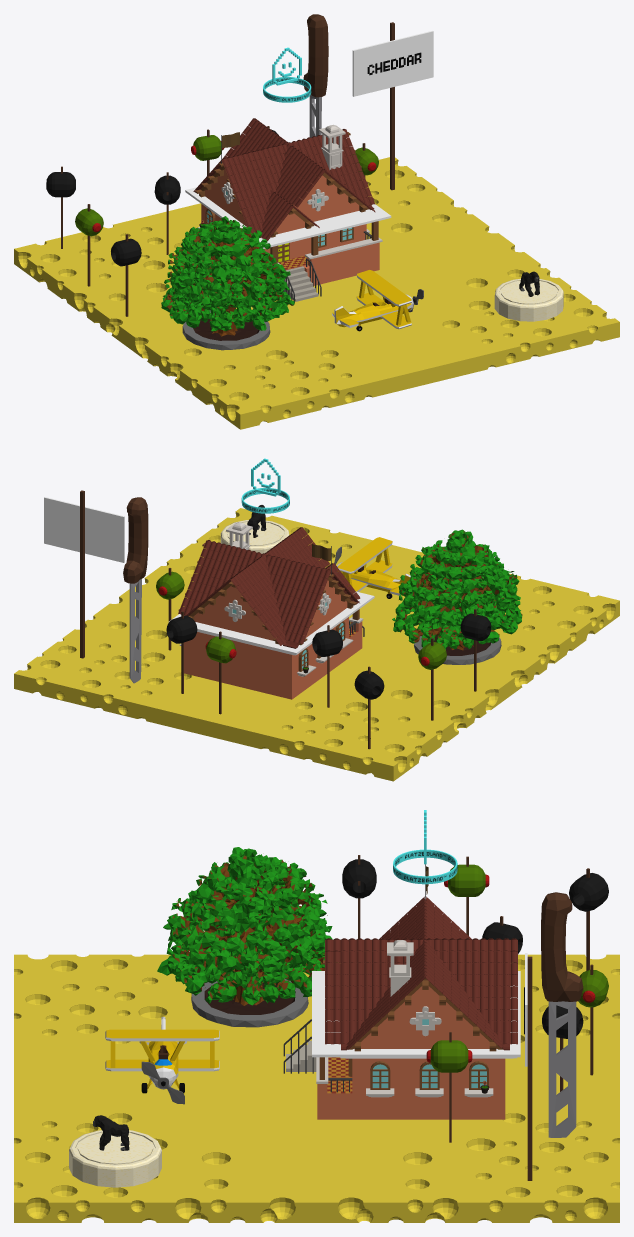
The picture shows the model from 3 angles, top to bottom: view 1: azimuth 30°, elevation 25°; view 2: azimuth 150°, elevation 25°; view 3: azimuth 270°, elevation 25°; orthographic projection. The views are drawn at different scales.
Parts seen in each view (by area): view 1: Cube.022, Cube.1141, OBJRANDOM_CEIBA, Cube.023, VEHICLES_AIRPLANE, Cylinder.016, Cube.024, TYPE_PREMIUM, Sphere.017, Sphere.018, Sphere.016, Sphere.020 (+1 smaller); view 2: Cube.022, Cube.1141, OBJRANDOM_CEIBA, Cube.023, Cube.024, VEHICLES_AIRPLANE, Cylinder.016, TYPE_PREMIUM, Sphere.021, Sphere.017, Sphere.020, Sphere.022 (+3 smaller); view 3: Cube.022, Cube.1141, OBJRANDOM_CEIBA, Cube.024, VEHICLES_AIRPLANE, Cylinder.016, Cube.023, Sphere.019, Sphere.016, TYPE_PREMIUM, Sphere.017, Sphere.018 (+4 smaller).
Part boxes in pixels (left/top/right/bottom): Cube.022: left=14, top=157, right=619, bottom=429; Cube.1141: left=185, top=118, right=391, bottom=302; OBJRANDOM_CEIBA: left=161, top=216, right=294, bottom=350; Cube.023: left=352, top=22, right=433, bottom=190; VEHICLES_AIRPLANE: left=332, top=270, right=423, bottom=331; Cylinder.016: left=494, top=278, right=563, bottom=321; Cube.024: left=303, top=14, right=328, bottom=137; TYPE_PREMIUM: left=263, top=47, right=311, bottom=102; Sphere.017: left=111, top=234, right=141, bottom=316; Sphere.018: left=75, top=204, right=103, bottom=286; Sphere.016: left=46, top=166, right=75, bottom=248; Sphere.020: left=154, top=172, right=180, bottom=254; Cube.022: left=14, top=508, right=619, bottom=781; Cube.1141: left=168, top=522, right=374, bottom=699; OBJRANDOM_CEIBA: left=392, top=529, right=521, bottom=664; Cube.023: left=44, top=490, right=124, bottom=658; Cube.024: left=123, top=497, right=148, bottom=683; VEHICLES_AIRPLANE: left=334, top=537, right=410, bottom=598; Cylinder.016: left=220, top=520, right=289, bottom=553; TYPE_PREMIUM: left=241, top=458, right=289, bottom=513; Sphere.021: left=166, top=611, right=197, bottom=693; Sphere.017: left=460, top=609, right=491, bottom=691; Sphere.020: left=312, top=625, right=342, bottom=707; Sphere.022: left=205, top=631, right=236, bottom=714; Cube.022: left=14, top=954, right=619, bottom=1222; Cube.1141: left=283, top=864, right=520, bottom=1119; OBJRANDOM_CEIBA: left=157, top=847, right=332, bottom=1027; Cube.024: left=541, top=892, right=583, bottom=1137; VEHICLES_AIRPLANE: left=105, top=1016, right=219, bottom=1104; Cylinder.016: left=69, top=1130, right=161, bottom=1187; Cube.023: left=524, top=953, right=532, bottom=1180; Sphere.019: left=426, top=1032, right=472, bottom=1142; Sphere.016: left=569, top=868, right=608, bottom=970; TYPE_PREMIUM: left=393, top=810, right=457, bottom=884; Sphere.017: left=342, top=855, right=376, bottom=938; Sphere.018: left=444, top=856, right=489, bottom=937.
Size of the model in its own units: 3917 by 2224 by 4000.
Materials: 51 (4 with a texture image).
